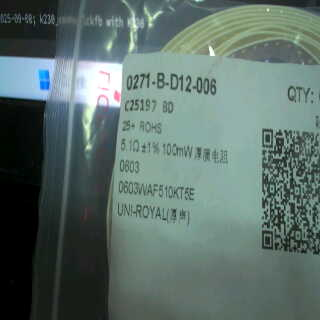5.1R: (119, 136, 146, 157)
